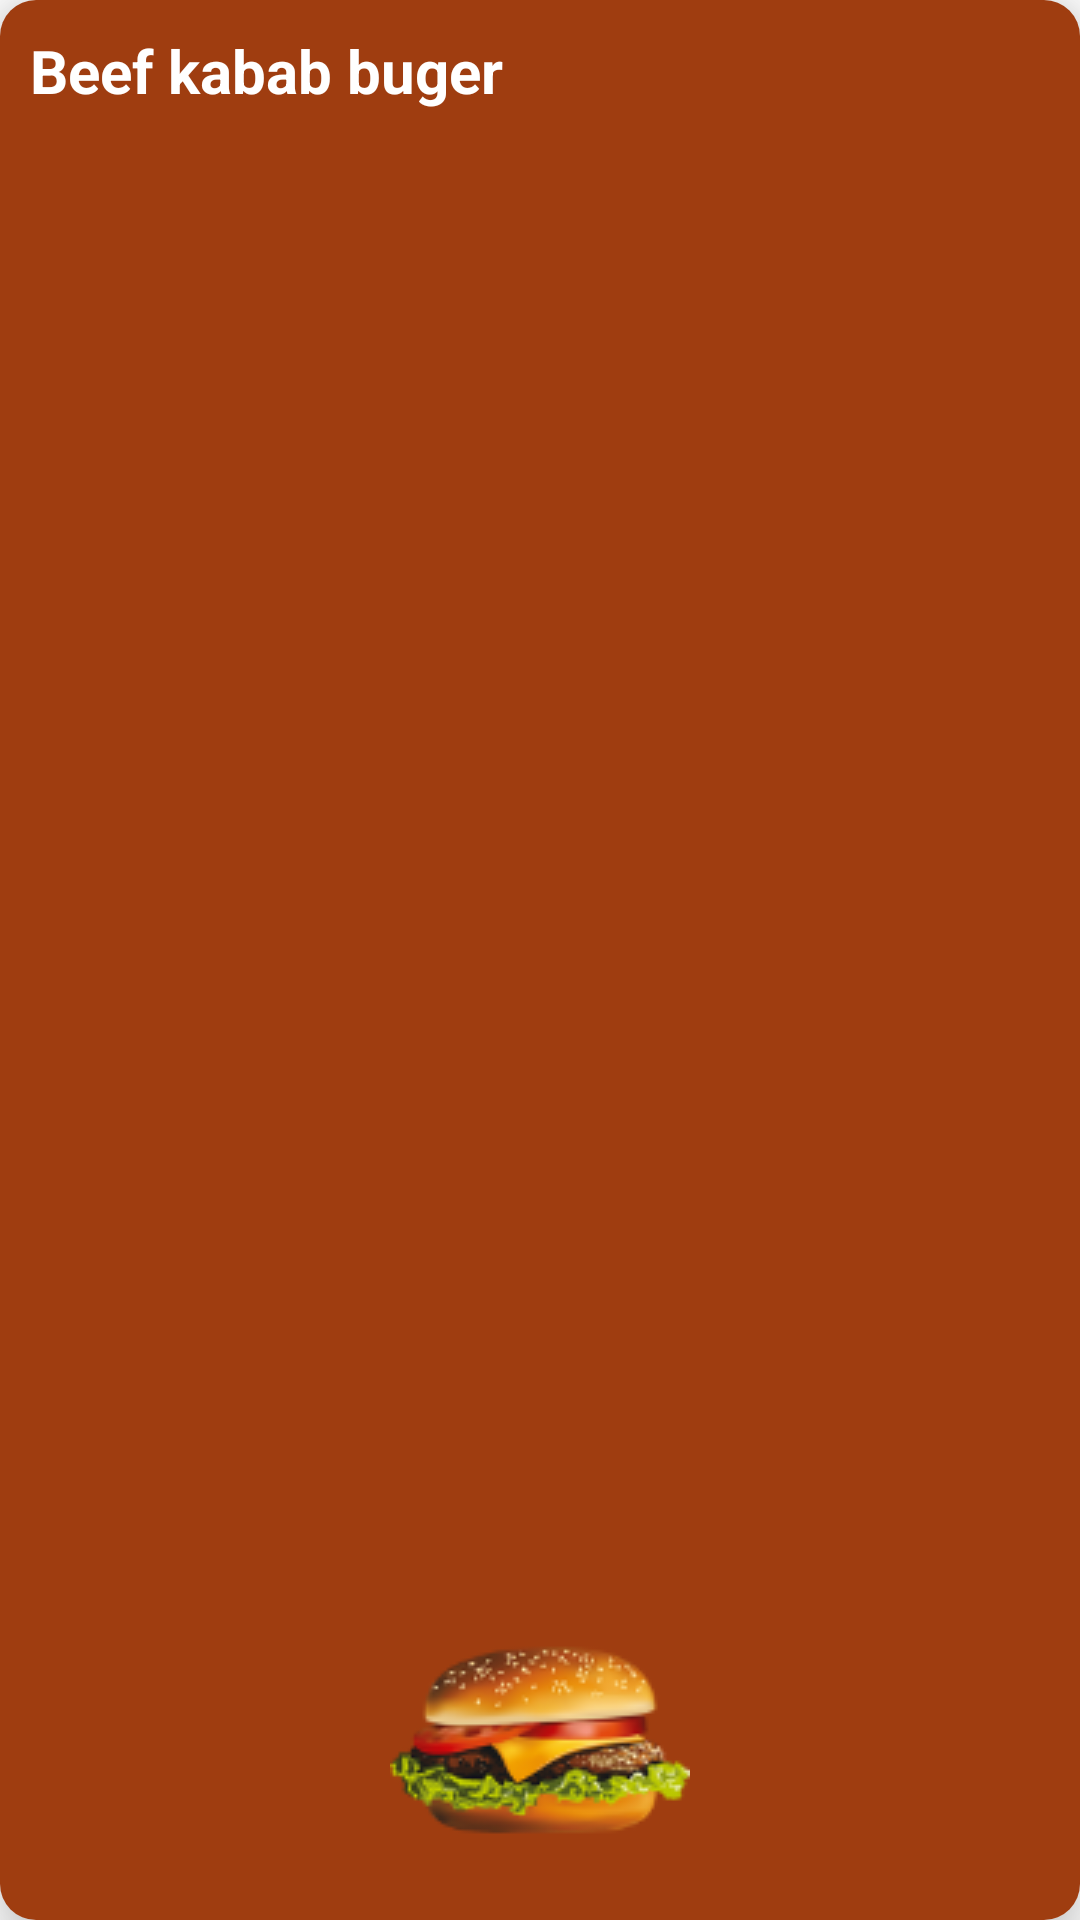

Where to tap for icons on this 1080px×1920px app screen, as (x=x, y=y):
burgers: (x=540, y=1741)
